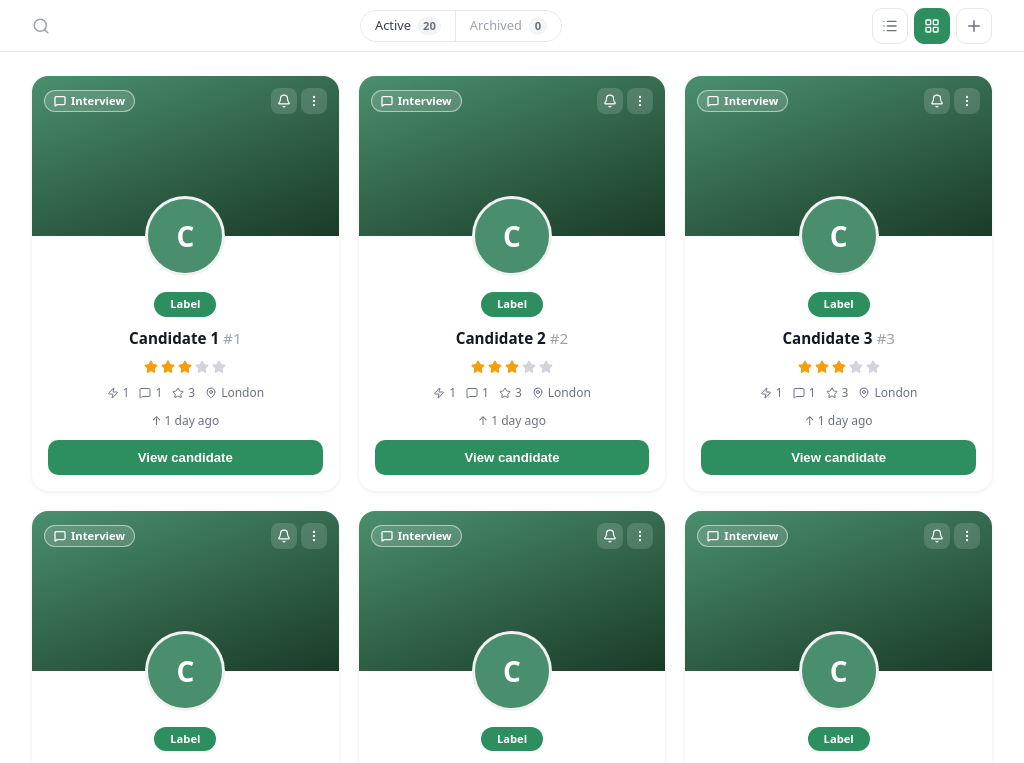
it: CandidatesPage › renders 10 candidates in list view after fetch
Click the button named "List view".
click(890, 26)  # box [872,8,908,44]
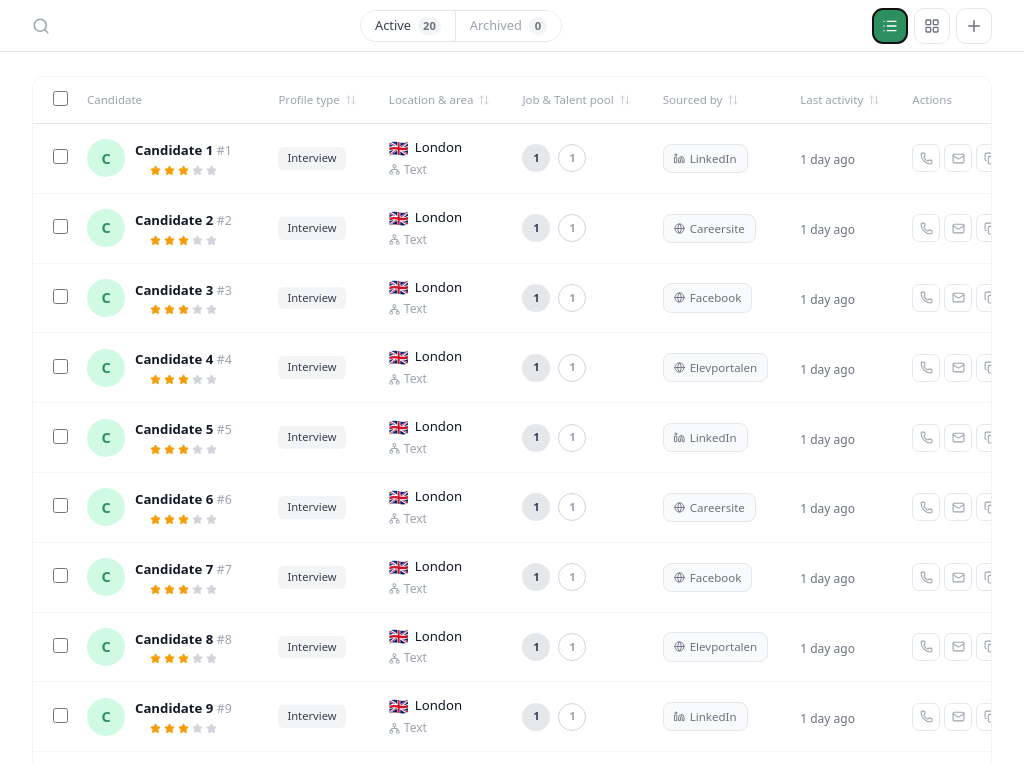
Expected: the text "Candidate 1 #1" is shown 10 times
